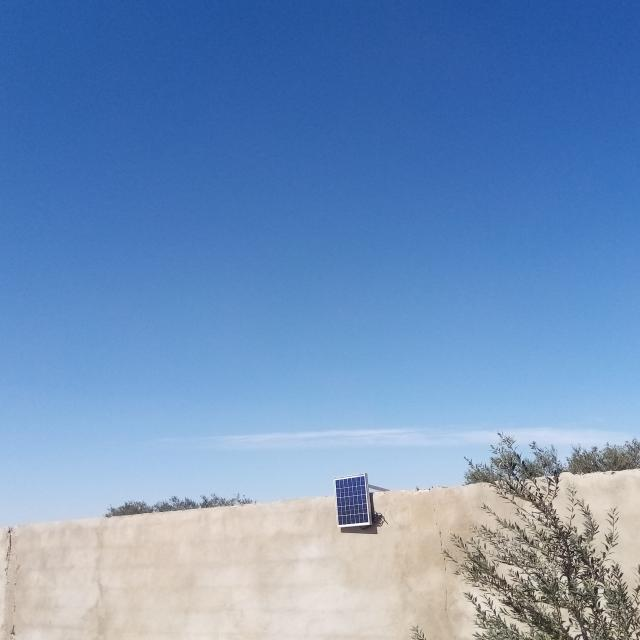no faulty: (333, 474, 370, 527)
